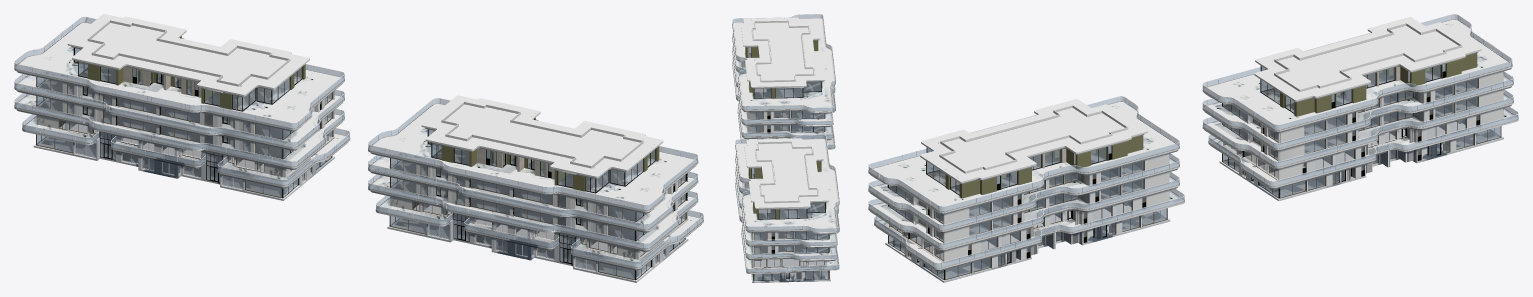
File: Elie Saab_build_2.glb
3 views of the same model, side by side, from view 1: azimuth 30°, elevation 25°; view 2: azimuth 150°, elevation 25°; view 3: azimuth 270°, elevation 25° (orthographic). The views are drawn at different scales.
Parts seen in each view (by area): view 1: Elie Saab_build.002; view 2: Elie Saab_build.002; view 3: Elie Saab_build.002.
Boxes of the visible parts, x1,y1,x2,y2 form: Elie Saab_build.002: (14, 14, 703, 282); Elie Saab_build.002: (732, 14, 839, 282); Elie Saab_build.002: (868, 14, 1518, 282).
Bounding box in the file's own units: 80.1 × 18.61 × 112.
Materials: 13 (7 with a texture image).
